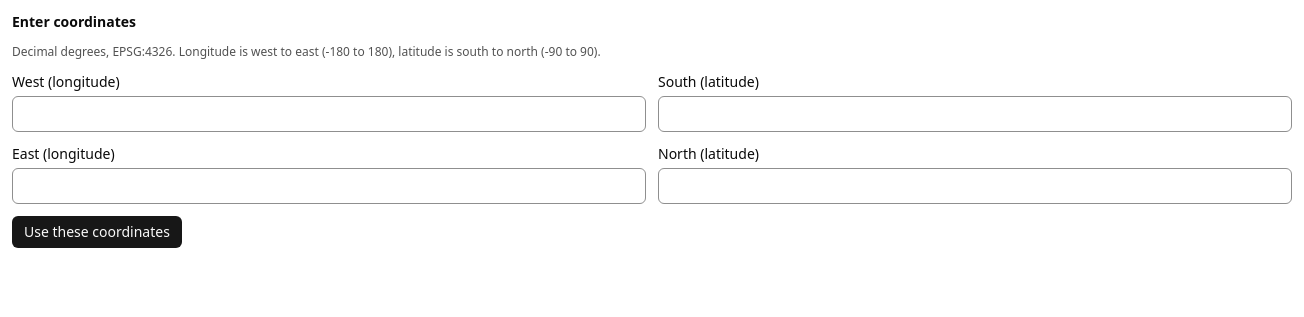
Test: CoordinateInputs › shows inline errors, sends nothing and keeps the typed values
This screenshot has width=1304, height=317.
Type "-119" into the field labelled "West (longitude)" at (329, 114), box [12,96,646,132]
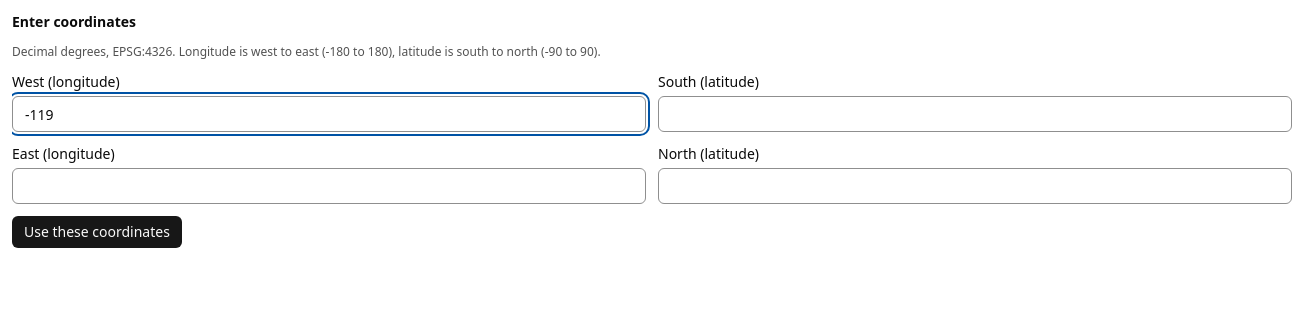
Type "38" into the field labelled "South (latitude)" at (975, 114), box [658,96,1292,132]
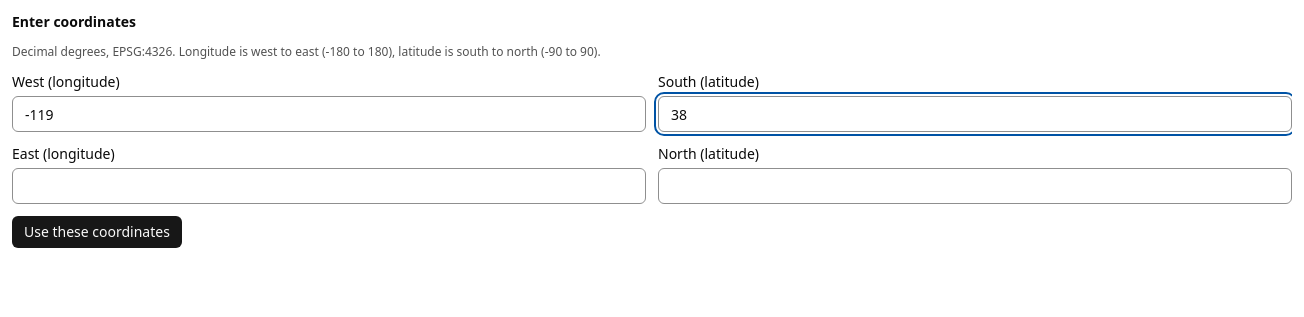
Type "-121" into the field labelled "East (longitude)" at (329, 186), box [12,168,646,204]
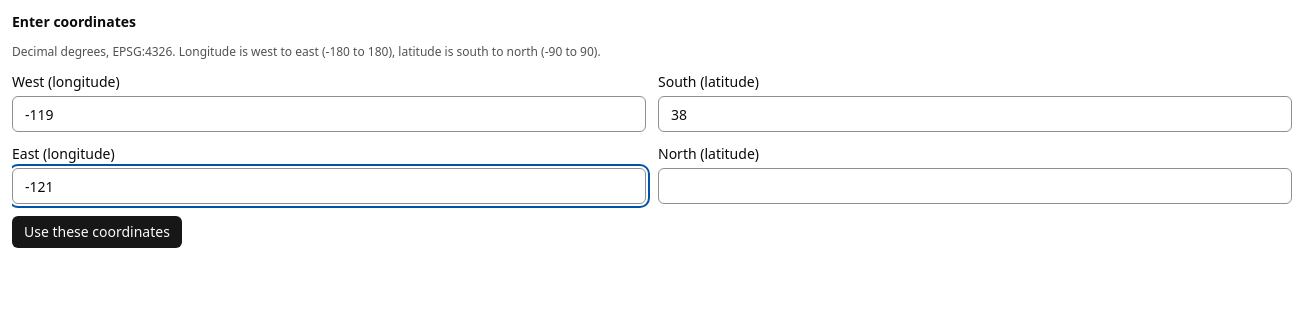
Type "36" into the field labelled "North (latitude)" at (975, 186), box [658,168,1292,204]
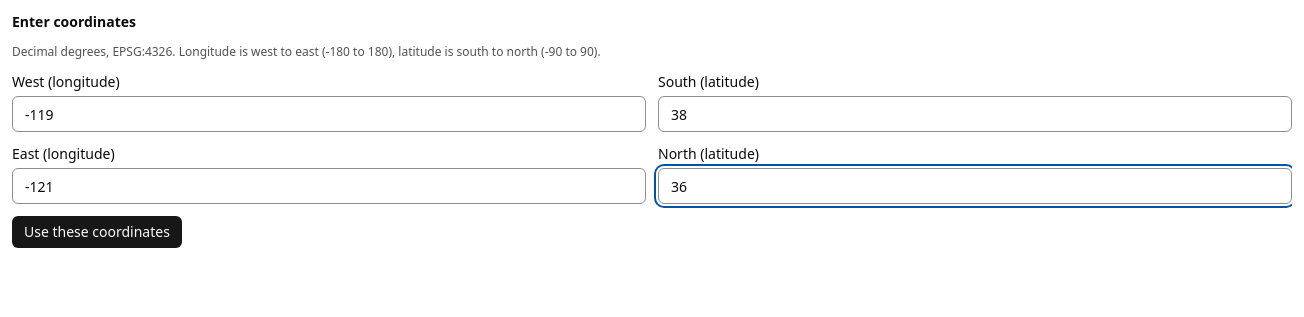
Click the button "Use these coordinates" at (97, 232), box [12,216,182,248]
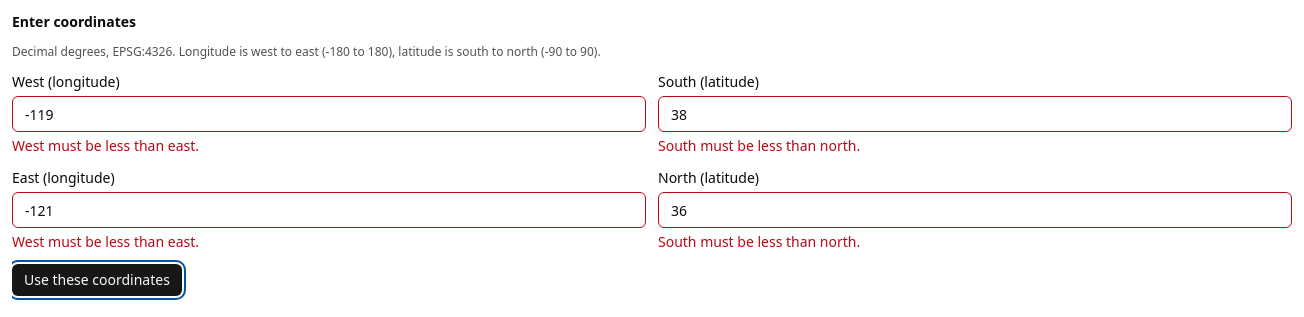
Now the message "West must be less than east." below "West (longitude)" is shown, box [12,136,199,155]
Now the message "South must be less than north." below "South (latitude)" is shown, box [658,136,860,155]
